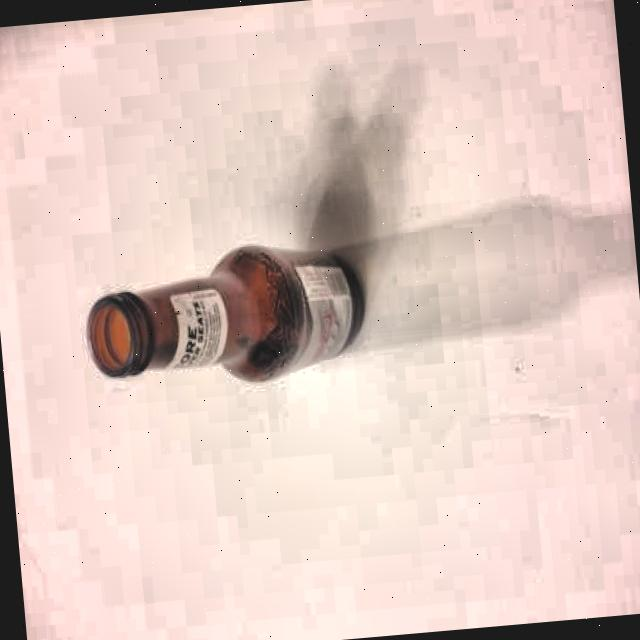glass: (79, 230, 374, 402)
